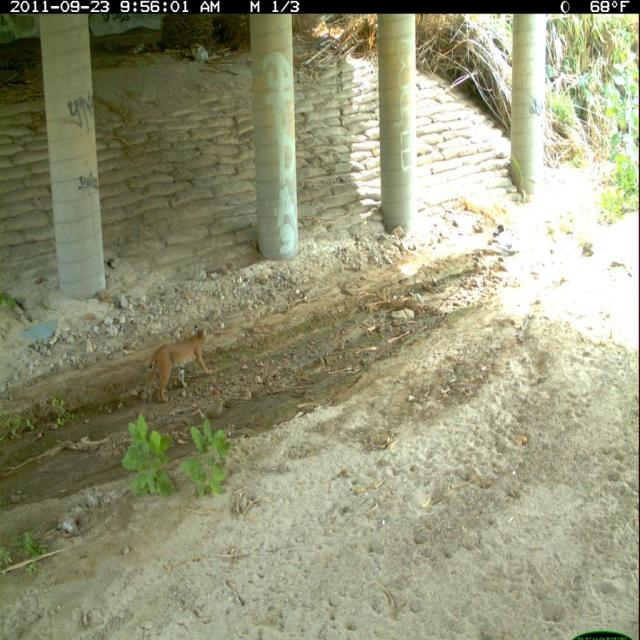bobcat: (143, 323, 216, 407)
